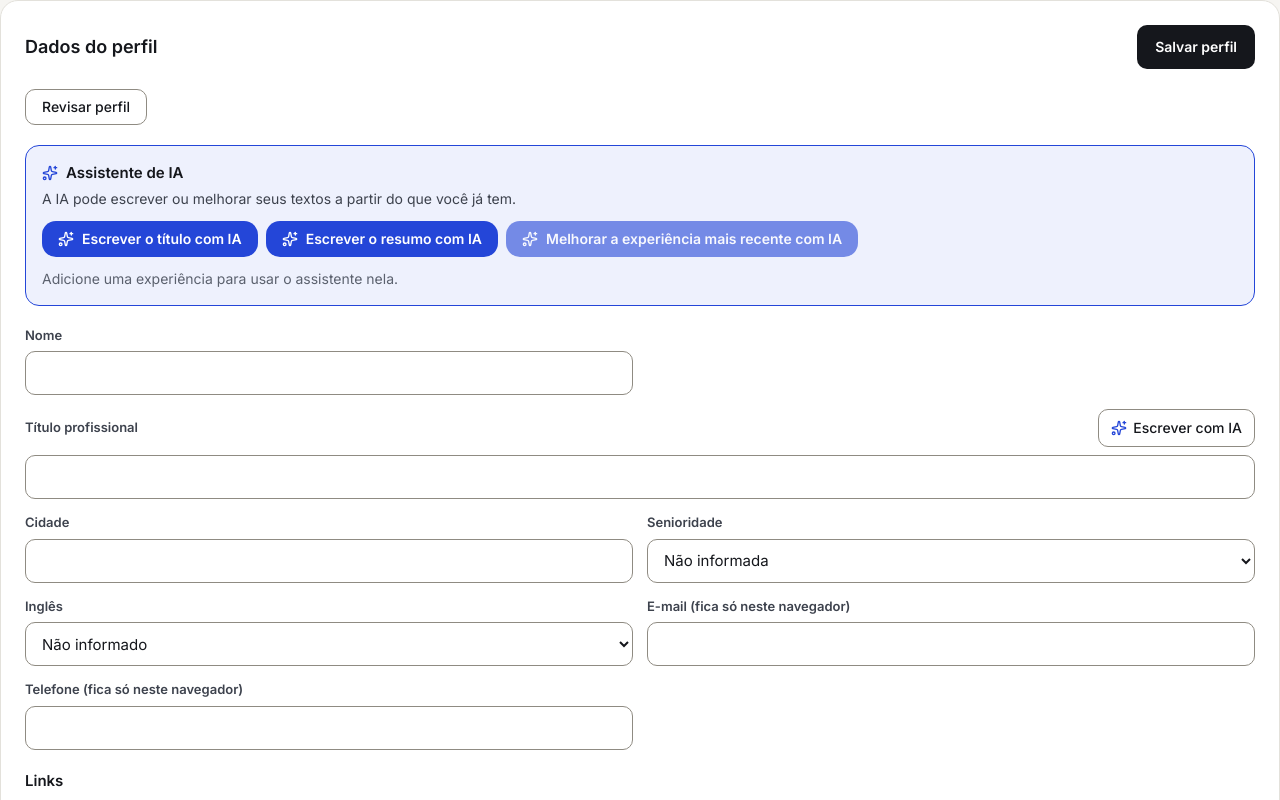
Test: Revisar perfil › mostra mensagem quando não há achados
Click the button "Revisar perfil".
click(86, 107)  # box [25,89,147,125]
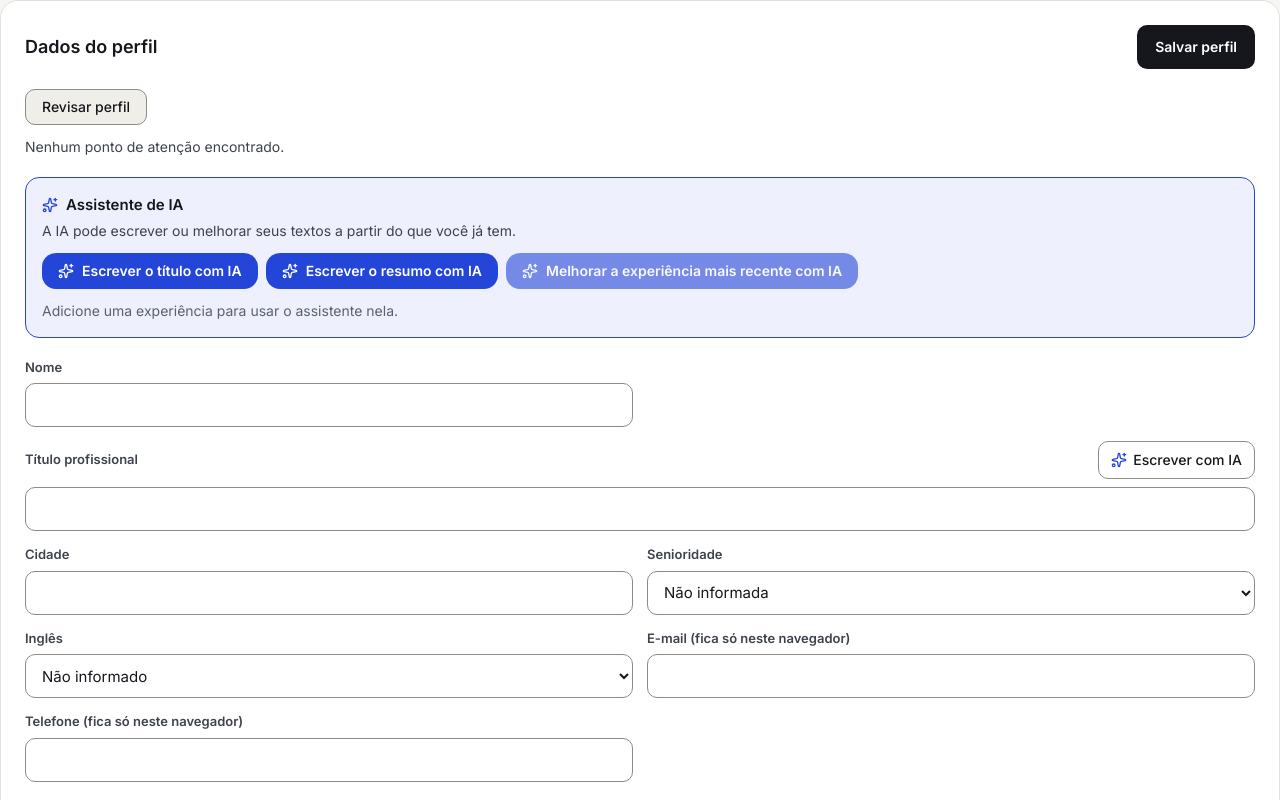
Expected: the text "Nenhum ponto de atenção encontrado." is shown, [25,138,284,155]
